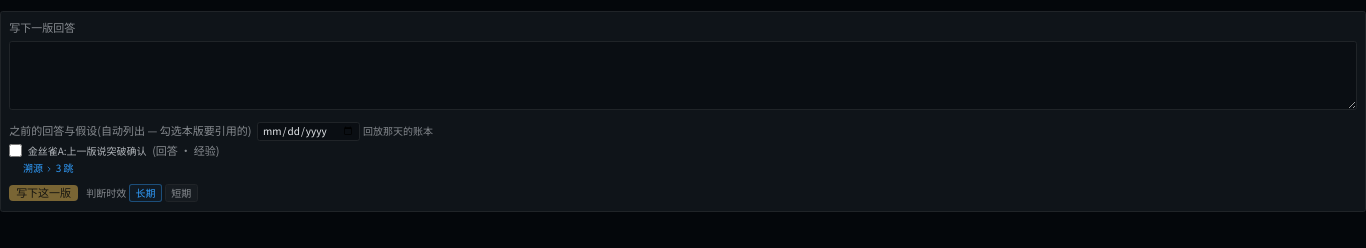
QuestionAnswerForm › 有实证链的候选点开溯源显示完整跳路径
Expected: the text "金丝雀A:上一版说突破确认" is shown, [28,144,147,158]
What coordinates should you click on to do the following:
click the button with test id "evidence-chain-toggle"
I would click on:
 (48, 168)
Its box is [23,161,74,175].
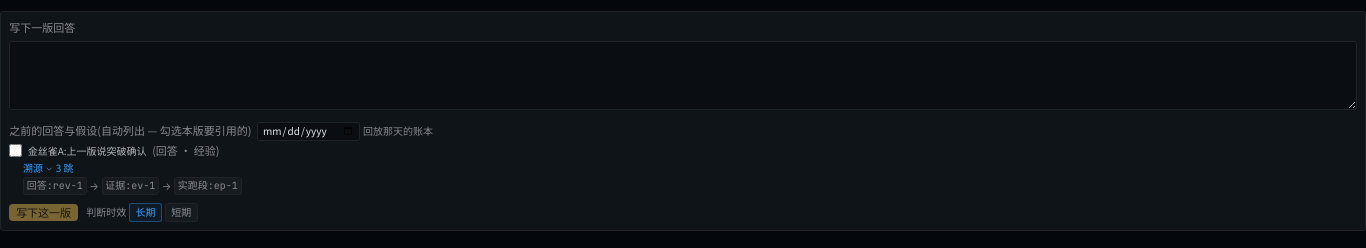
Now the element with test id "evidence-chain-path" shows "回答:rev-1", box [23,177,242,195]
Now the element with test id "evidence-chain-path" shows "证据:ev-1", box [23,177,242,195]
Now the element with test id "evidence-chain-path" shows "实跑段:ep-1", box [23,177,242,195]
